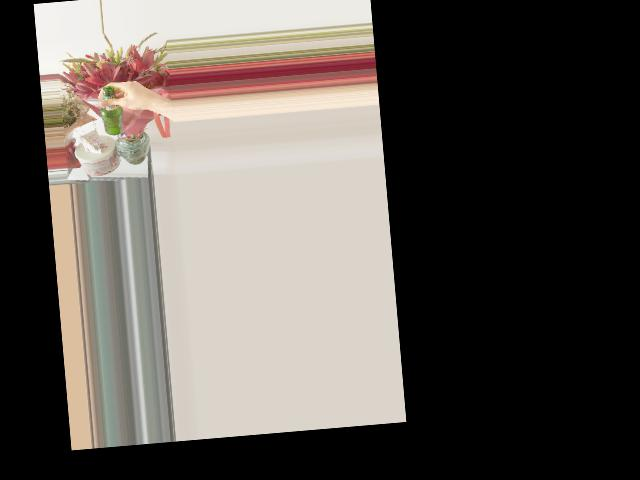beer: (98, 85, 124, 136)
